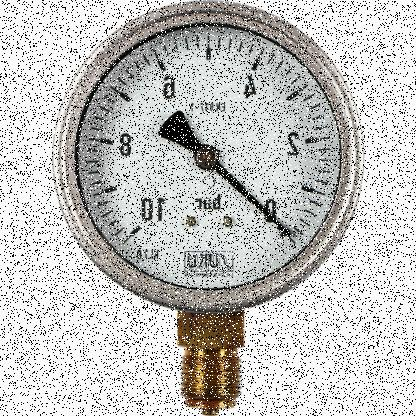needle: (212, 162, 292, 238)
